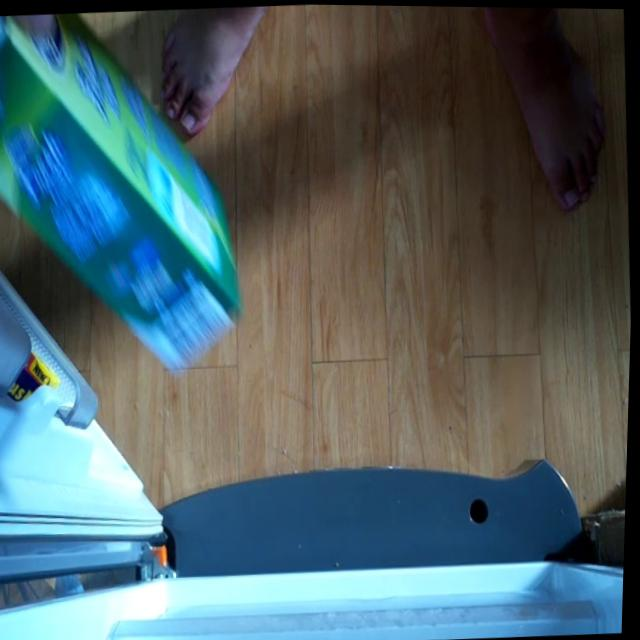milk: (0, 4, 254, 388)
